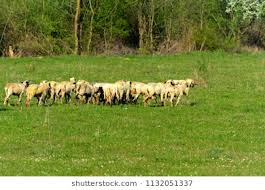sheep: (146, 77, 174, 105), (3, 79, 28, 105), (27, 82, 52, 106), (174, 78, 195, 103), (57, 77, 77, 103)
